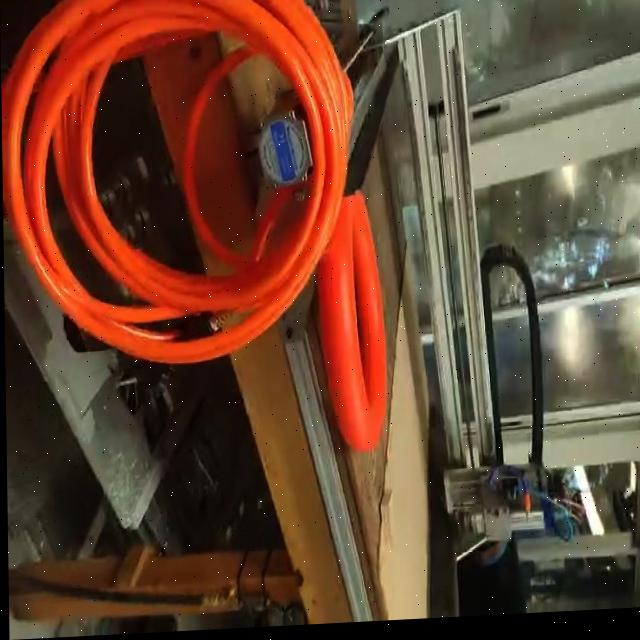note: (315, 192, 388, 458)
